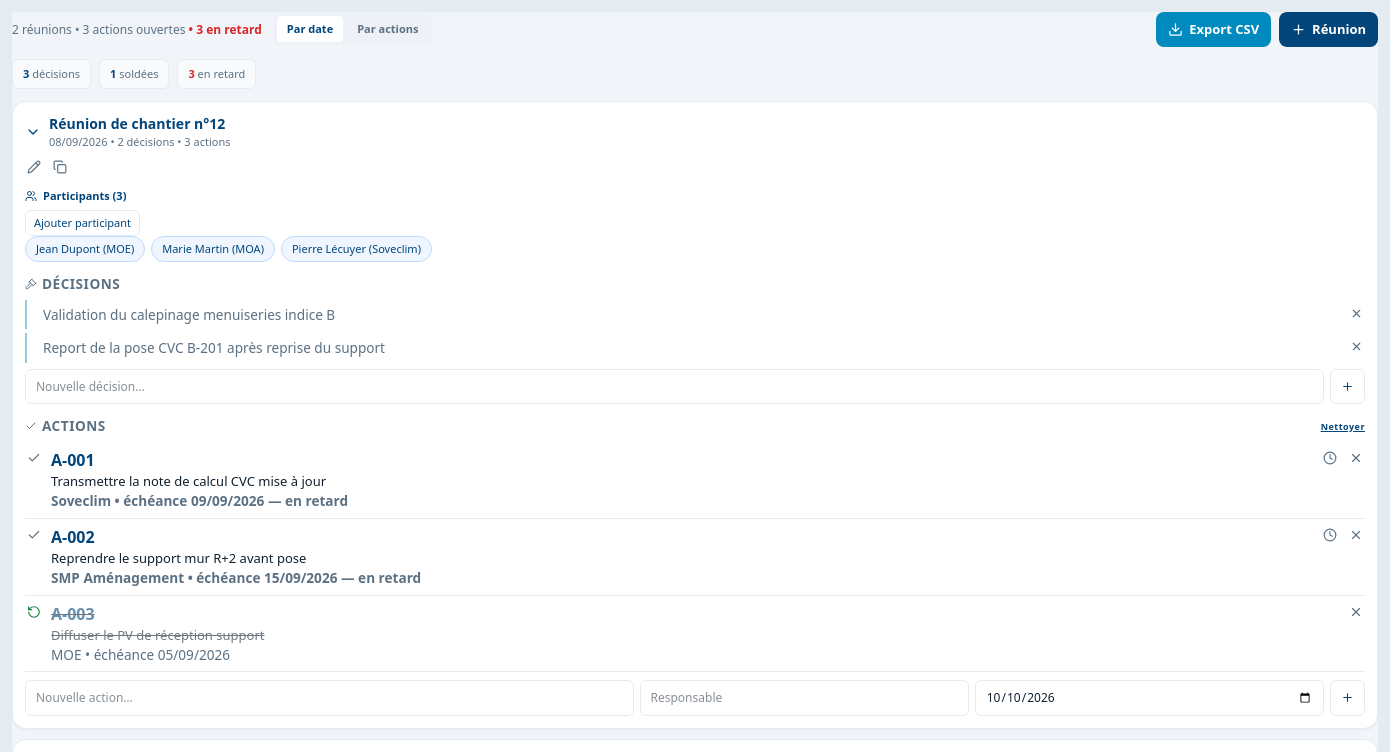
Scenario: <Meetings /> — câblage UI › solder une action bascule son bouton en « Rouvrir »
Step 1. Click the button titled "Solder" next to "A-001" → coordinates (34, 458), box x1=25 y1=449 x2=43 y2=467
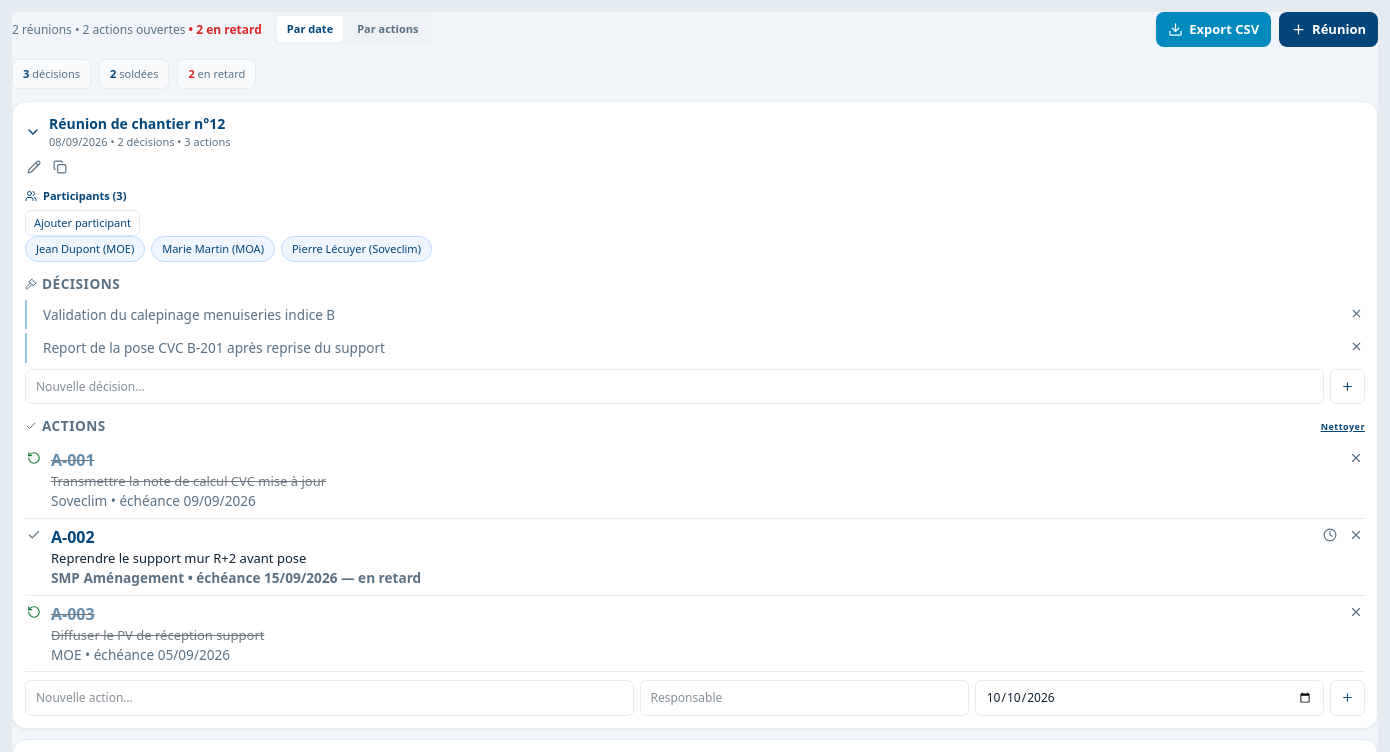
Now the number of buttons titled "Rouvrir" is 2, box x1=25 y1=449 x2=43 y2=467; x1=25 y1=602 x2=43 y2=620
